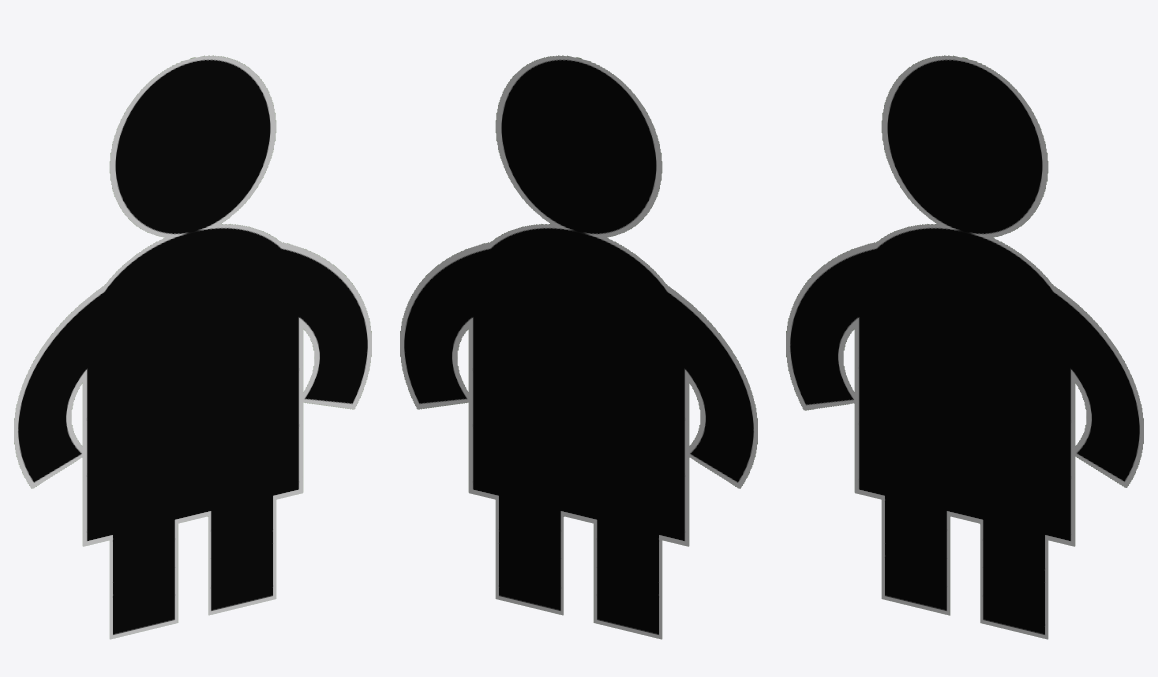
File: Villager.fbx
The picture shows the model from 3 angles, left to right: view 1: azimuth 30°, elevation 25°; view 2: azimuth 150°, elevation 25°; view 3: azimuth 330°, elevation 25°; orthographic projection.
Parts seen in each view (by area): view 1: pPlane3; view 2: pPlane3; view 3: pPlane3.
Part boxes in pixels (x1,y1,x2,y2): pPlane3: (14, 55, 371, 639); pPlane3: (400, 55, 757, 639); pPlane3: (786, 55, 1143, 639).
Bounding box in the file's own units: 1 × 1.5 × 1.11e-16.
1 material, 1 textured.
